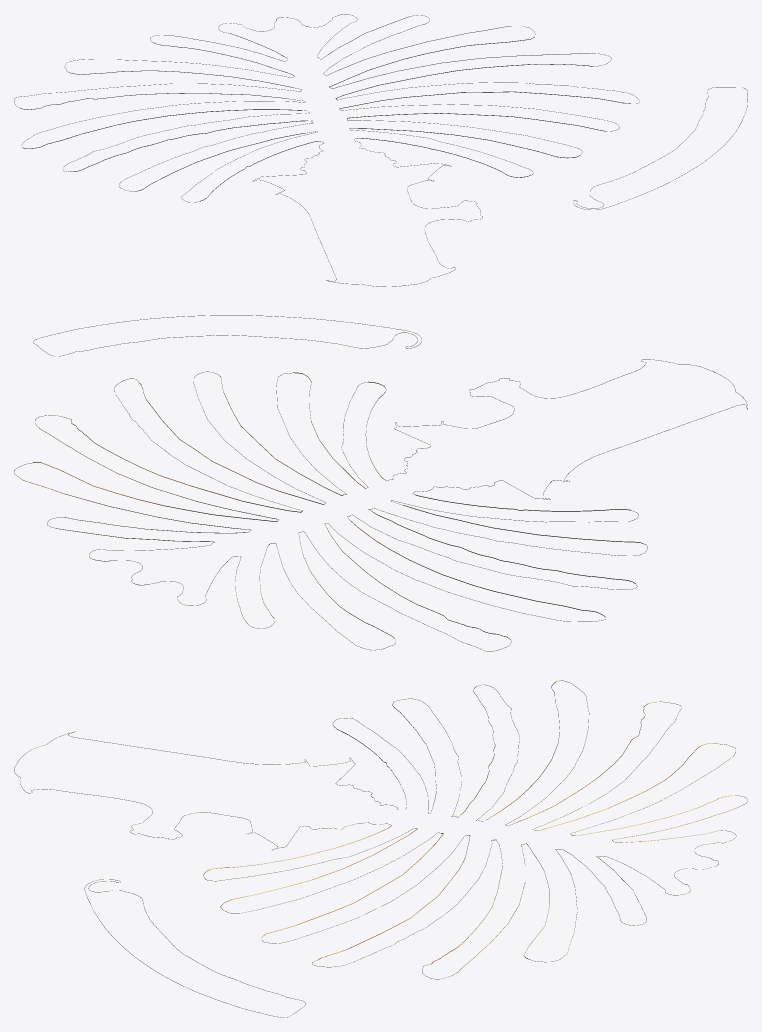
The model's file is ROADS_DECORATIVE.fbx.
The picture shows the model from 3 angles, top to bottom: view 1: azimuth 30°, elevation 25°; view 2: azimuth 150°, elevation 25°; view 3: azimuth 270°, elevation 25°; orthographic projection. The views are drawn at different scales.
Parts seen in each view (by area): view 1: ROADS_DECORATIVE; view 2: ROADS_DECORATIVE; view 3: ROADS_DECORATIVE.
Boxes of the visible parts, left/top/right/bottom form: ROADS_DECORATIVE: left=14, top=14, right=747, bottom=286; ROADS_DECORATIVE: left=14, top=315, right=747, bottom=651; ROADS_DECORATIVE: left=14, top=680, right=747, bottom=1017.
Size of the model in its own units: 4380 by 3.24 by 4028.
1 material, 1 textured.
